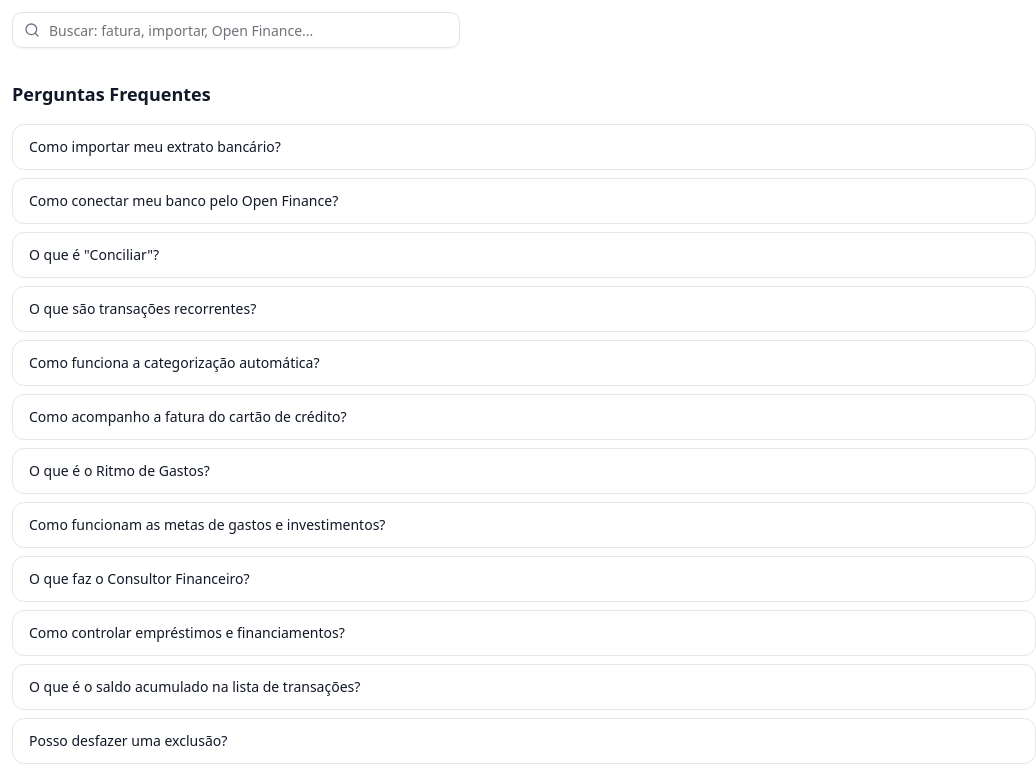
Test case: CentralDeAjuda › busca sem acento em perguntas e respostas
Type "fatura" into the search field.
click(236, 30); type("fatura")  # box x1=12 y1=12 x2=460 y2=48
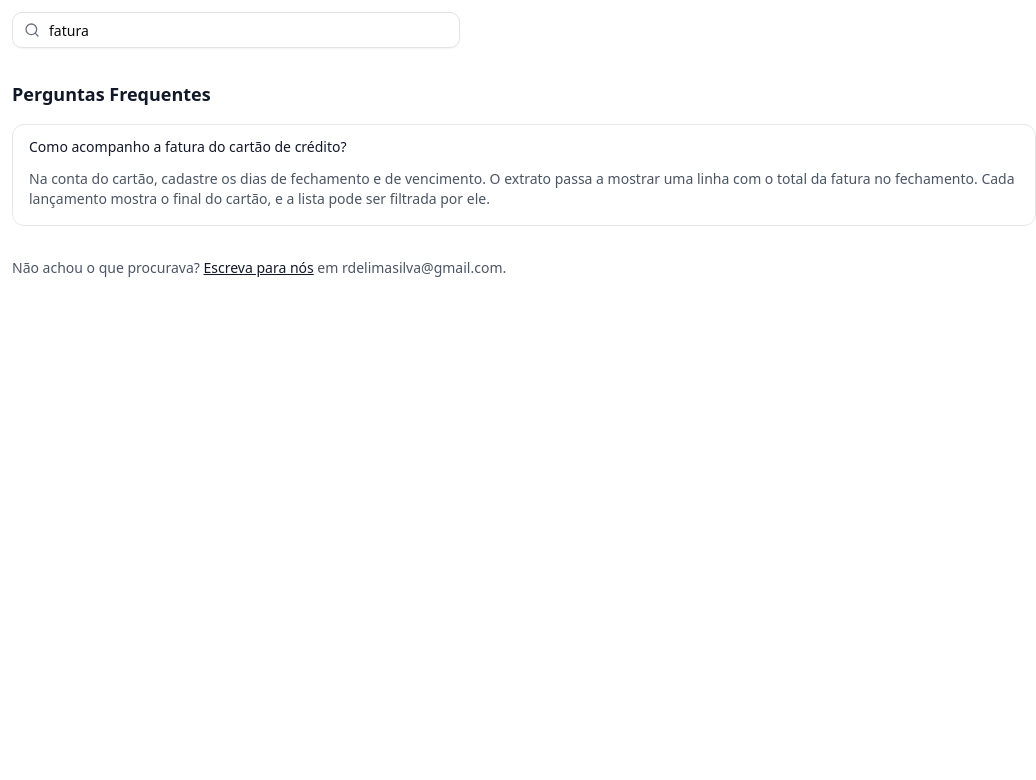
Check: the heading "Como acompanho a fatura do cartão de crédito?" is shown, box x1=29 y1=137 x2=347 y2=156
Check: the heading "Como importar meu extrato bancário?" is gone
